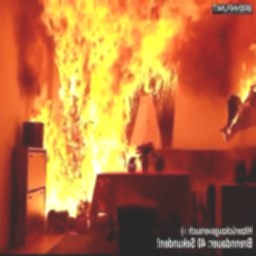fire: (2, 1, 256, 190)
